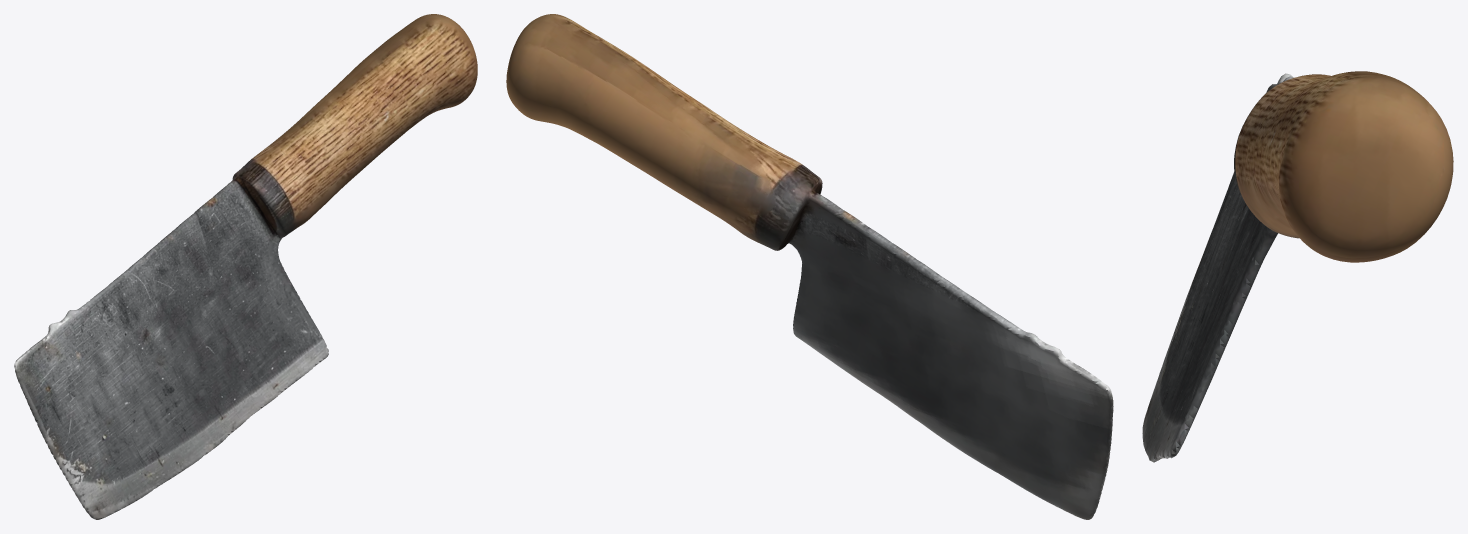
Rendered from cleaver.glb.
The picture shows the model from 3 angles, left to right: view 1: azimuth 30°, elevation 25°; view 2: azimuth 150°, elevation 25°; view 3: azimuth 270°, elevation 25°; orthographic projection. The views are drawn at different scales.
Visible parts, largest first — view 1: cowninja-cleaver; view 2: cowninja-cleaver; view 3: cowninja-cleaver.
Part boxes in pixels (x1,y1,x2,y2): cowninja-cleaver: [14, 14, 477, 519]; cowninja-cleaver: [506, 14, 1113, 519]; cowninja-cleaver: [1142, 71, 1453, 462].
Bounding box in the file's own units: 0.4 × 0.2947 × 0.1136.
Materials: 1 (1 with a texture image).
